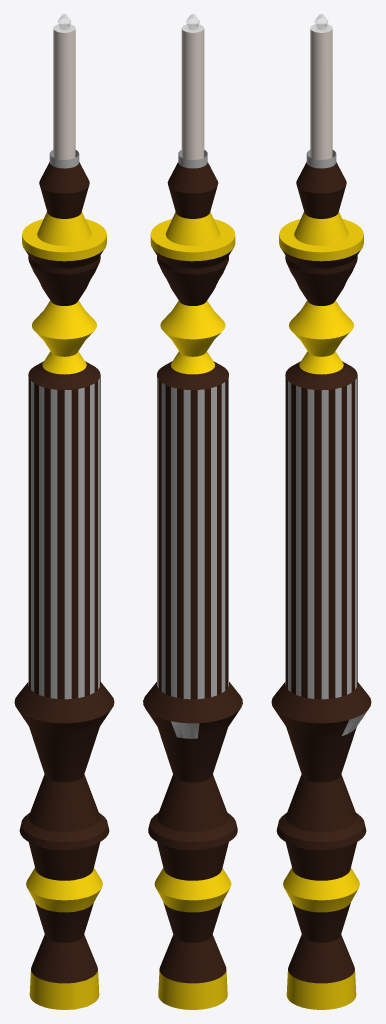
The model's file is RodTorch_Silver.glb.
The picture shows the model from 3 angles, left to right: view 1: azimuth 90°, elevation 25°; view 2: azimuth 210°, elevation 25°; view 3: azimuth 270°, elevation 25°; orthographic projection.
Parts seen in each view (by area): view 1: Cylinder; view 2: Cylinder; view 3: Cylinder.
Part boxes in pixels (x1,y1,x2,y2): Cylinder: (14,14,114,1009); Cylinder: (143,14,242,1009); Cylinder: (271,14,371,1009).
Bounding box in the file's own units: 0.329 × 3.56 × 0.329.
